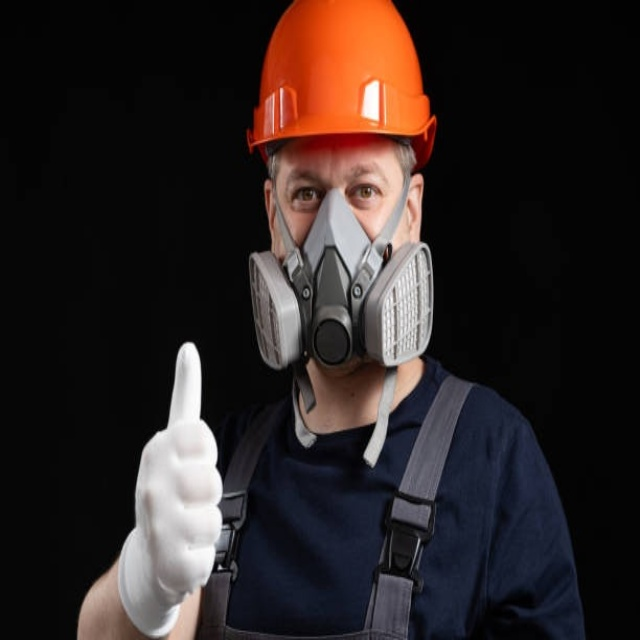Guantes: (119, 339, 226, 637)
Mascara: (253, 170, 431, 379)
Sin_gafas: (282, 141, 395, 216)
